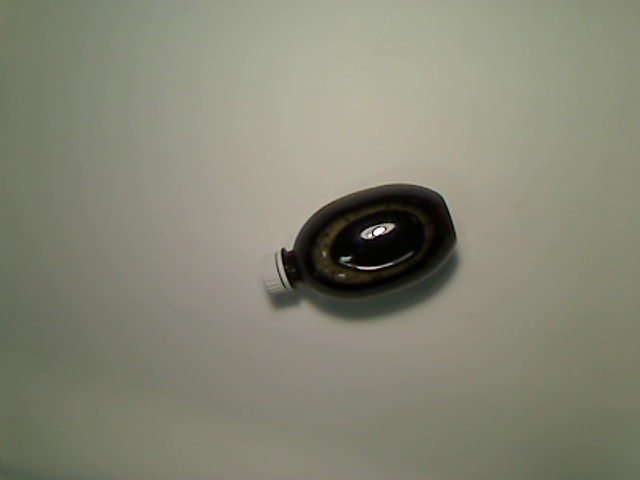plast_bottle: (260, 181, 458, 305)
